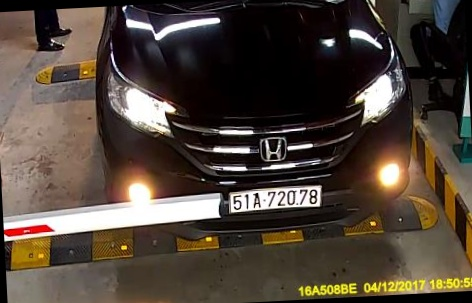plate: (230, 184, 325, 215)
